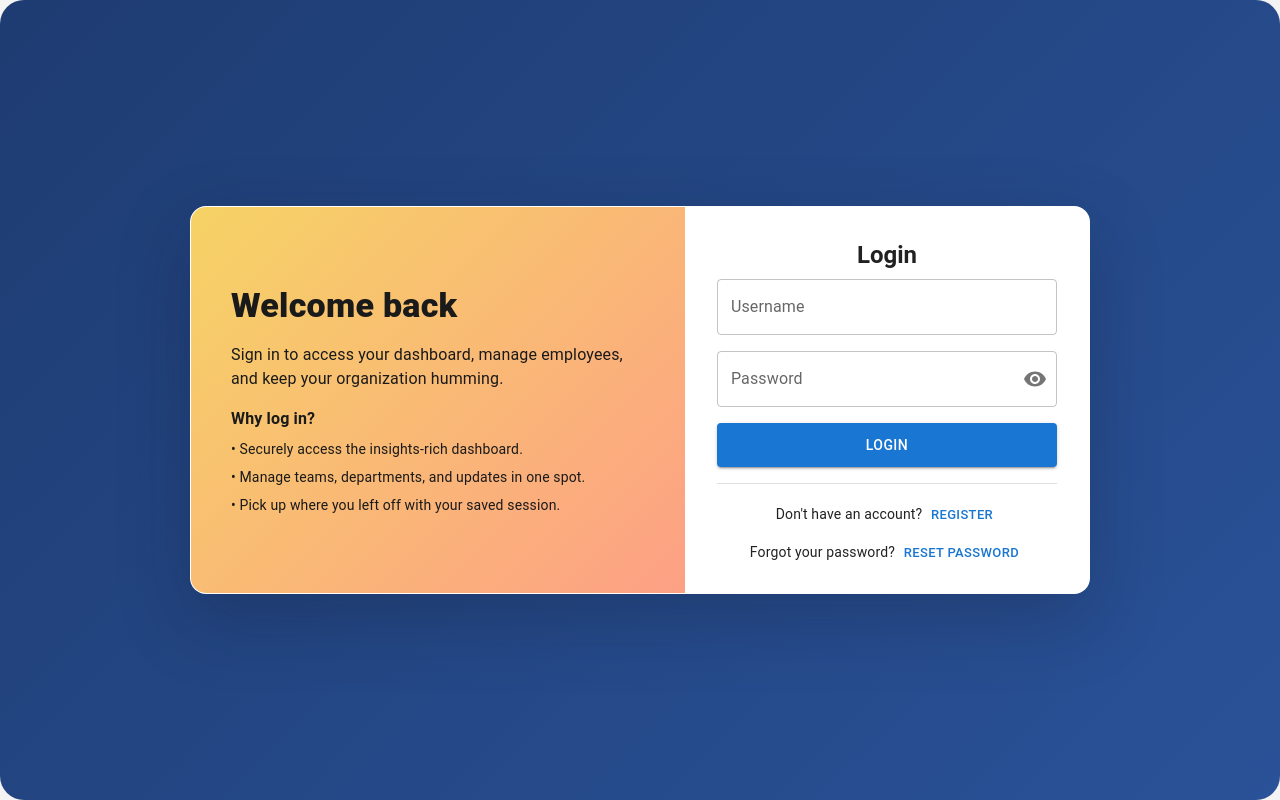
Test: <Login /> › shows error message on invalid credentials
This screenshot has width=1280, height=800.
Type "u" into the field labelled "Username". click: (887, 307)
box: [717,279,1057,335]
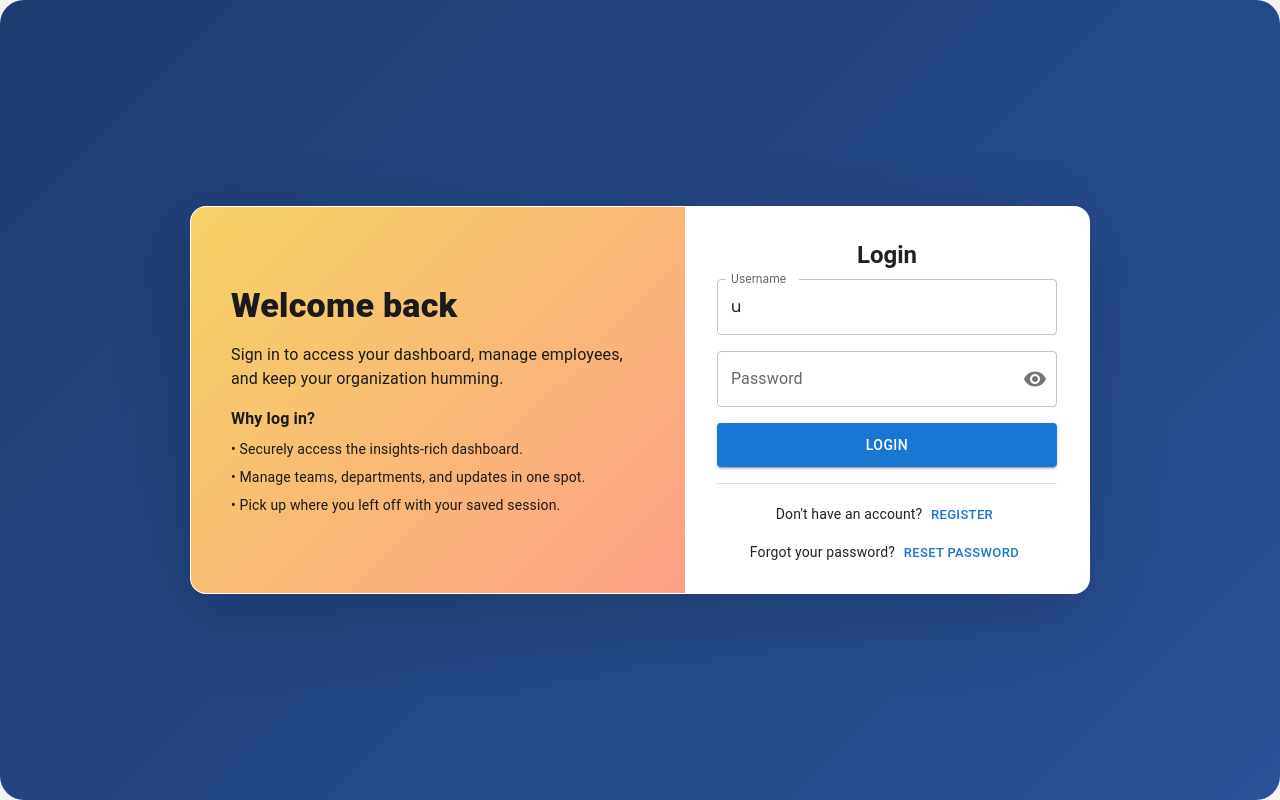
Type "p" into the password field labelled "Password". click: (862, 379)
box: [717,351,1007,407]
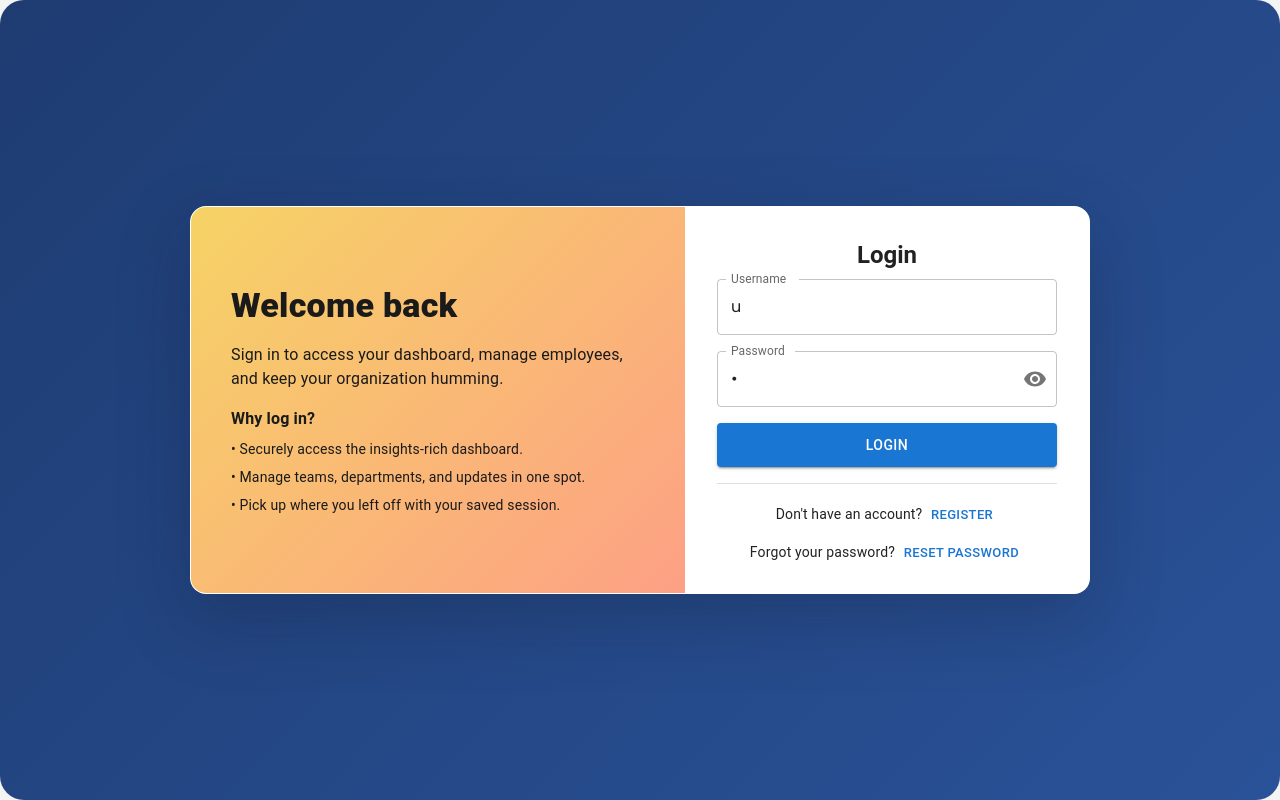
Click the button "Login". click: click(887, 445)
box: [717,423,1057,467]
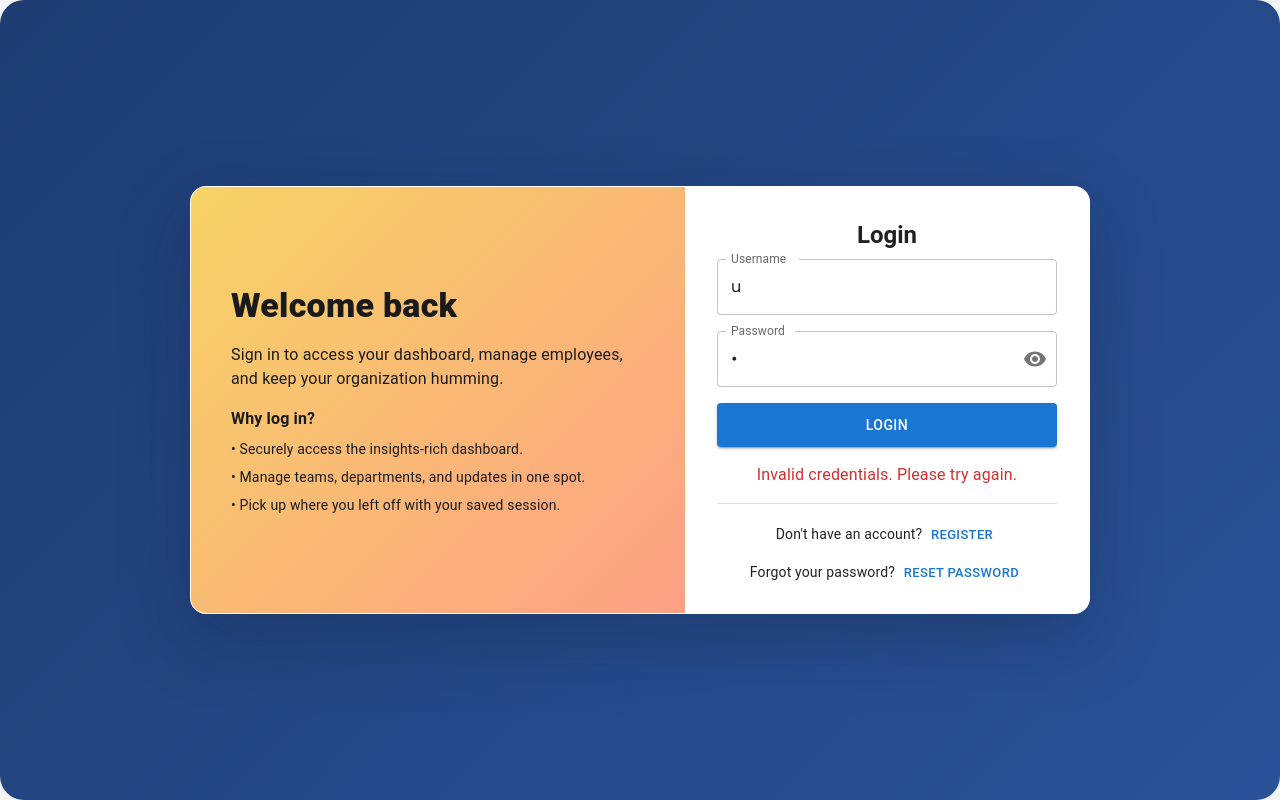
expect the text "Invalid credentials. Please try again." is shown: met, box [757,465,1017,484]
